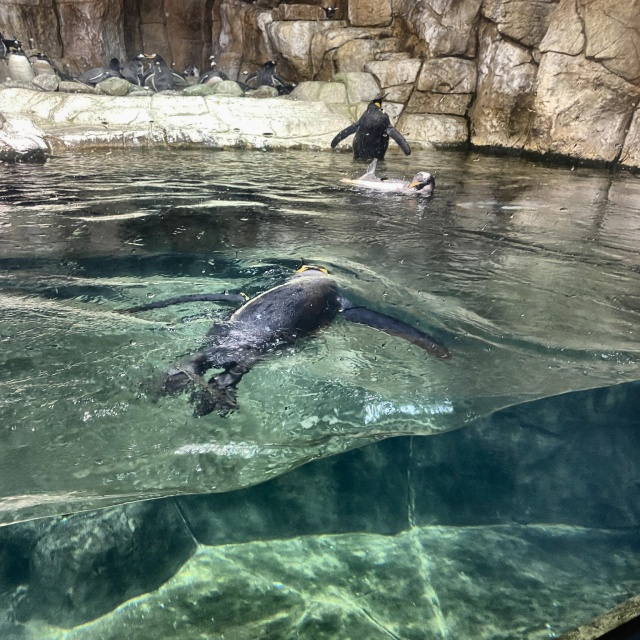penguin: (115, 257, 447, 415), (331, 94, 410, 163), (340, 159, 435, 197), (142, 53, 187, 93), (31, 51, 74, 91), (2, 38, 33, 85), (244, 60, 289, 92), (120, 52, 152, 88), (78, 65, 124, 84), (197, 58, 226, 86)
